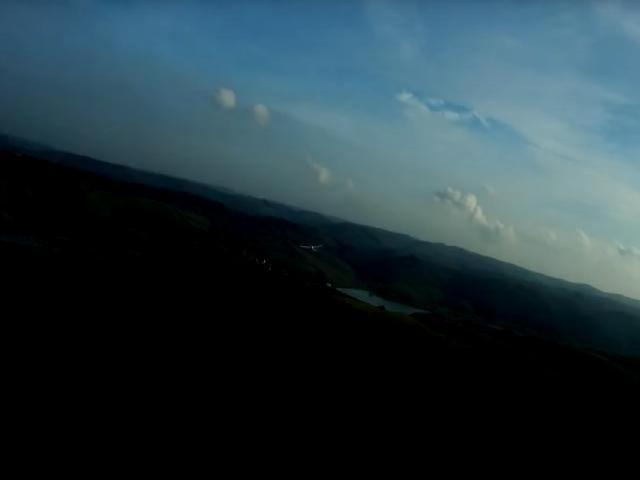iha: (301, 245, 322, 251)
